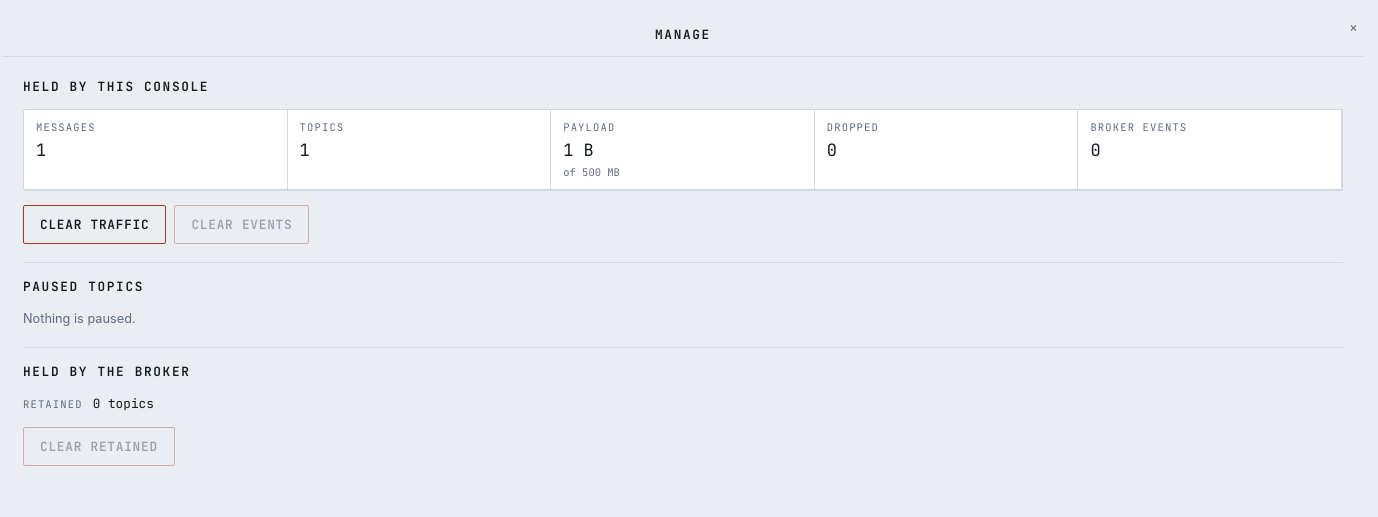
the screen for what is being held › what the console is holding › asks before it empties either of them, and takes Cancel for an answer
What coordinates should you click on to do the following:
click the button "Clear traffic"
I would click on:
 (95, 225)
Its box is x1=23 y1=205 x2=166 y2=244.
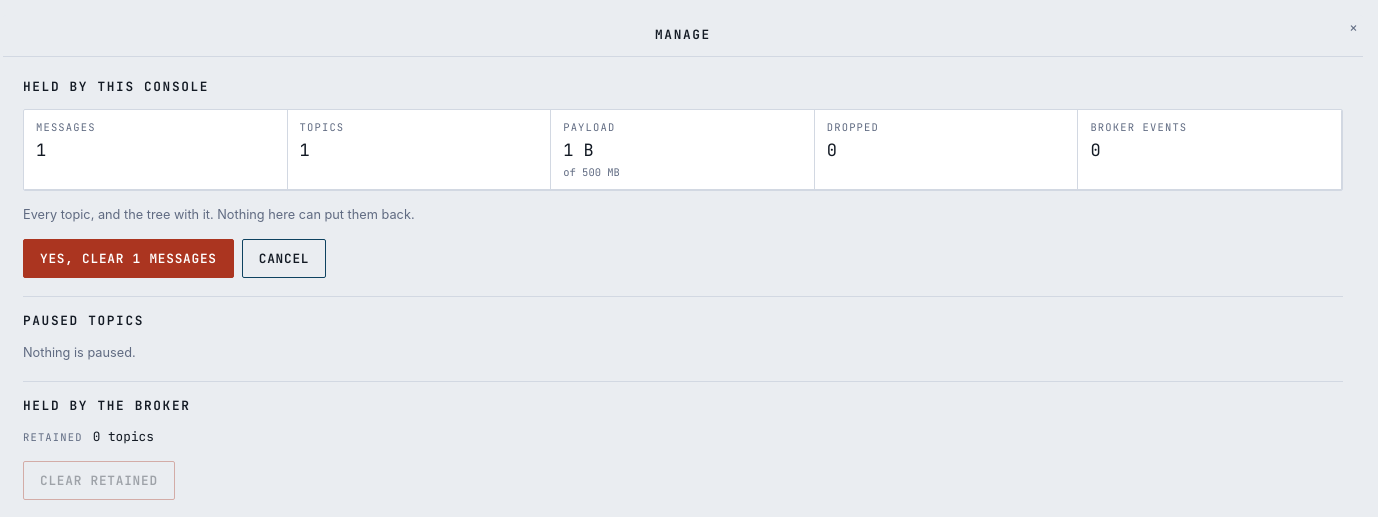
Now the text "Nothing here can put them back" is shown, box x1=23 y1=207 x2=415 y2=222
What coordinates should you click on to do the following:
click the button "Cancel"
I would click on:
 (284, 259)
Its box is x1=242 y1=239 x2=326 y2=278.
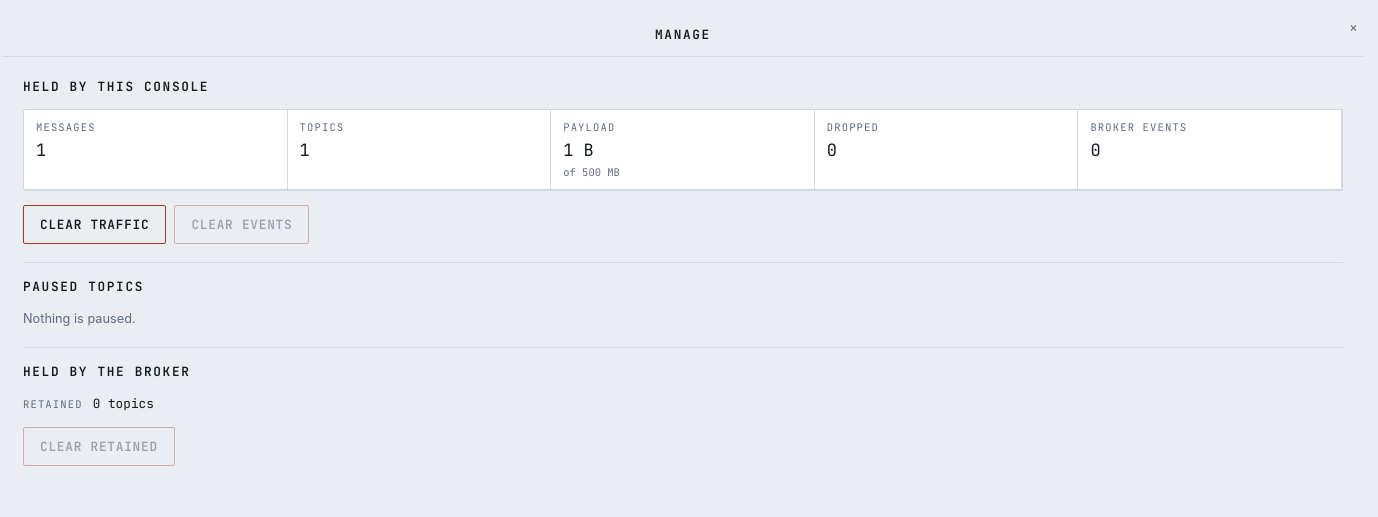
Now the button "Clear traffic" is shown, box x1=23 y1=205 x2=166 y2=244
